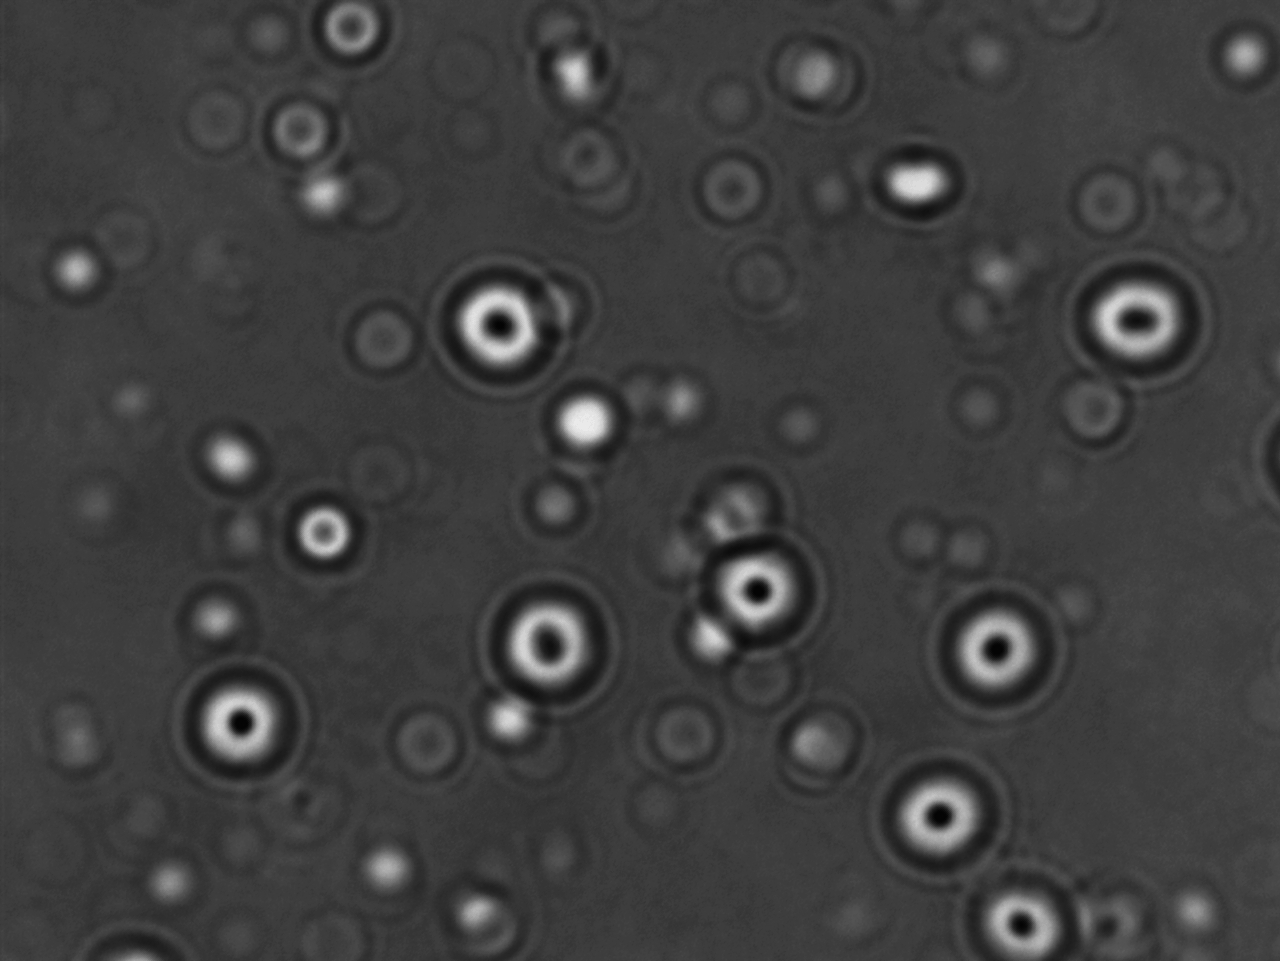depth:16: (471, 571, 621, 712), (1068, 247, 1211, 377), (168, 656, 309, 781), (933, 589, 1068, 717), (688, 529, 825, 652), (430, 261, 557, 388), (868, 755, 997, 868), (961, 860, 1082, 961)
